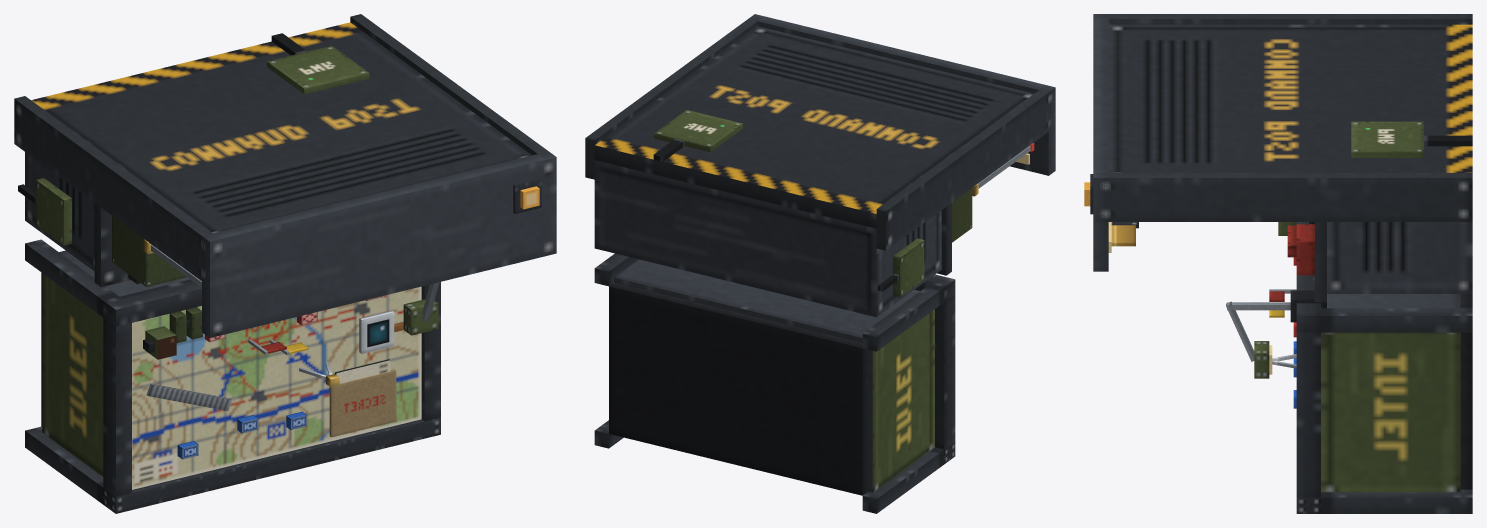
Rendered from command_table.obj.
The picture shows the model from 3 angles, left to right: view 1: azimuth 30°, elevation 25°; view 2: azimuth 150°, elevation 25°; view 3: azimuth 270°, elevation 25°; orthographic projection. The views are drawn at different scales.
Visible parts, largest first — view 1: command_table_Back_wall, command_table_Canopy, command_table_Map, command_table_Wall_post_0, command_table_Plan_chest, command_table_Rim_front, command_table_Rim_R, command_table_Folder, command_table_Wall_post_1, command_table_Power_box, command_table_Console, command_table_Rim_back (+11 smaller); view 2: command_table_Back_wall, command_table_Kick_plate, command_table_Console, command_table_Plan_chest, command_table_Wall_post_0, command_table_Canopy, command_table_Rim_R, command_table_Wall_post_1, command_table_Power_box, command_table_Table_leg_2, command_table_Table_leg_0, command_table_Junction_box (+3 smaller); view 3: command_table_Back_wall, command_table_Plan_chest, command_table_Wall_post_1, command_table_Console, command_table_Rim_L, command_table_Wall_post_0, command_table_Canopy, command_table_Table_leg_3, command_table_Table_leg_1, command_table_Power_box, command_table_Kick_plate, command_table_Rim_back (+8 smaller).
Boxes of the visible parts, x1,y1,x2,y2 form: command_table_Back_wall: (31, 22, 531, 233); command_table_Canopy: (202, 154, 556, 337); command_table_Map: (132, 286, 421, 489); command_table_Wall_post_0: (14, 96, 218, 285); command_table_Plan_chest: (42, 251, 189, 476); command_table_Rim_front: (103, 417, 440, 513); command_table_Rim_R: (103, 318, 131, 496); command_table_Folder: (329, 369, 396, 437); command_table_Wall_post_1: (350, 14, 554, 158); command_table_Power_box: (267, 45, 369, 94); command_table_Console: (25, 152, 94, 271); command_table_Rim_back: (103, 279, 201, 326); command_table_Back_wall: (594, 26, 1033, 228); command_table_Kick_plate: (609, 282, 867, 495); command_table_Console: (594, 160, 941, 317); command_table_Plan_chest: (614, 259, 934, 492); command_table_Wall_post_0: (876, 86, 1054, 250); command_table_Canopy: (750, 14, 1055, 175); command_table_Rim_R: (935, 294, 955, 449); command_table_Wall_post_1: (585, 15, 762, 179); command_table_Power_box: (654, 110, 742, 152); command_table_Table_leg_2: (862, 284, 944, 351); command_table_Table_leg_0: (862, 447, 944, 513); command_table_Junction_box: (893, 238, 924, 297); command_table_Back_wall: (1108, 24, 1472, 172); command_table_Plan_chest: (1321, 294, 1460, 492); command_table_Wall_post_1: (1096, 173, 1472, 221); command_table_Console: (1327, 222, 1472, 293); command_table_Rim_L: (1296, 332, 1320, 497); command_table_Wall_post_0: (1096, 14, 1472, 24); command_table_Canopy: (1093, 14, 1108, 271); command_table_Table_leg_3: (1321, 308, 1472, 332); command_table_Table_leg_1: (1321, 489, 1472, 513); command_table_Power_box: (1351, 121, 1423, 157); command_table_Kick_plate: (1460, 294, 1472, 489); command_table_Rim_back: (1296, 222, 1320, 332).
Size of the model in its own units: 2 by 1.94 by 2.
